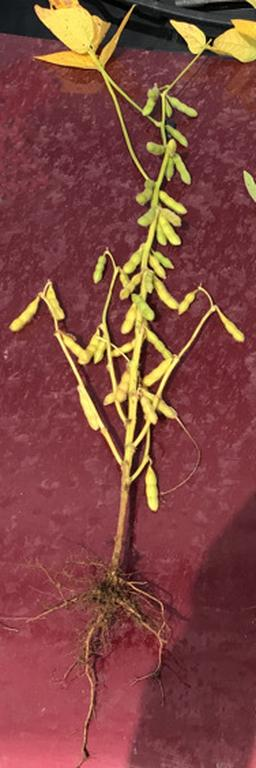pod: (217, 309, 245, 345), (142, 468, 163, 515), (80, 387, 100, 434), (146, 328, 173, 362), (142, 360, 172, 387), (154, 278, 178, 309), (160, 190, 188, 214), (47, 285, 66, 320), (120, 300, 138, 336), (138, 397, 158, 426), (135, 294, 157, 320), (170, 98, 197, 118), (65, 339, 88, 360), (176, 158, 192, 185), (92, 253, 104, 285), (179, 290, 194, 315), (112, 341, 135, 356)
soy: (28, 36, 248, 705)
